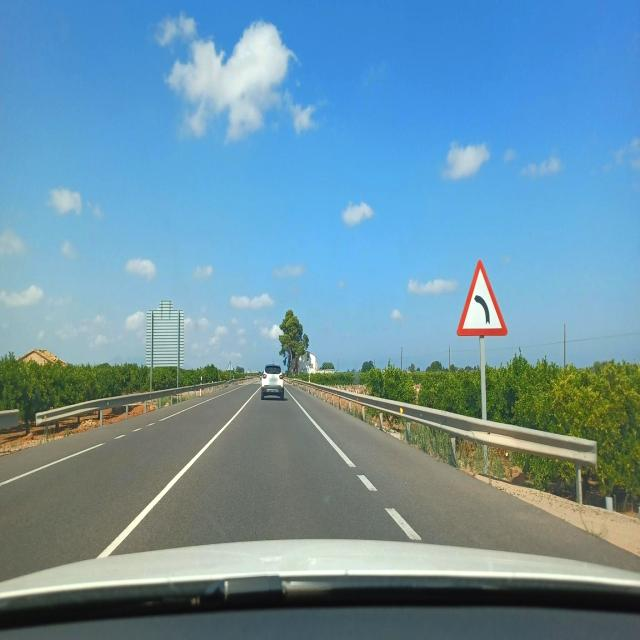car: (260, 363, 286, 400)
